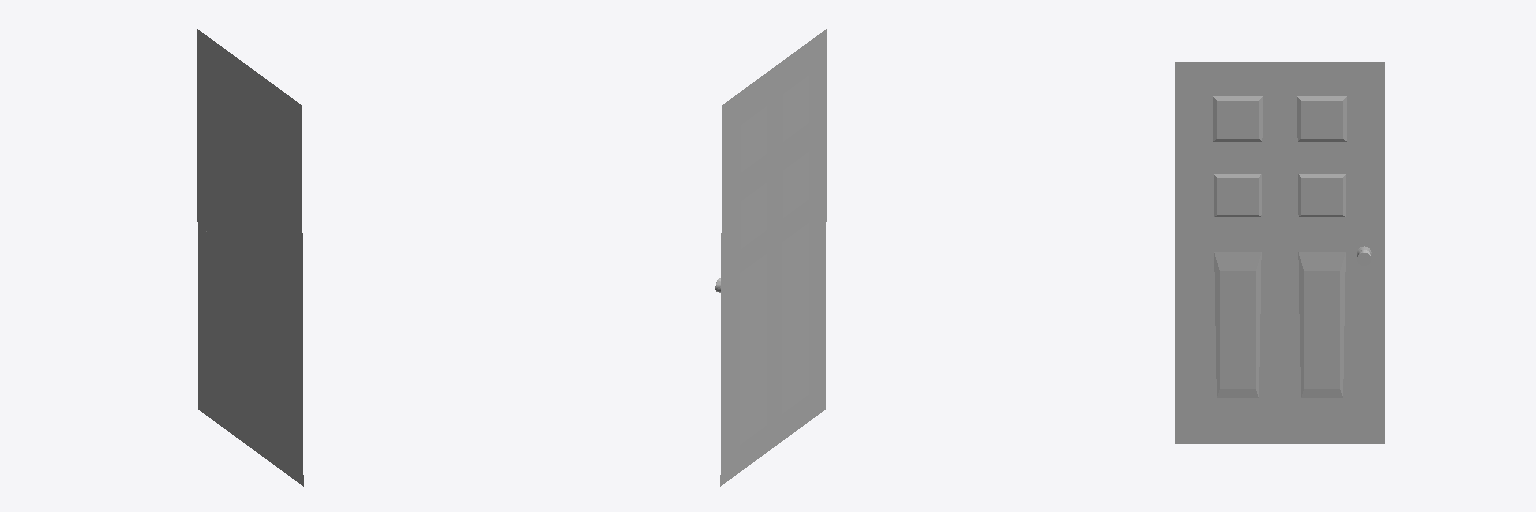
Rendered from portePlate.obj.
3 renders of one model, left to right at view 1: azimuth 30°, elevation 25°; view 2: azimuth 150°, elevation 25°; view 3: azimuth 270°, elevation 25°, orthographic.
Bounding box in the file's own units: 0.0757 × 2 × 1.